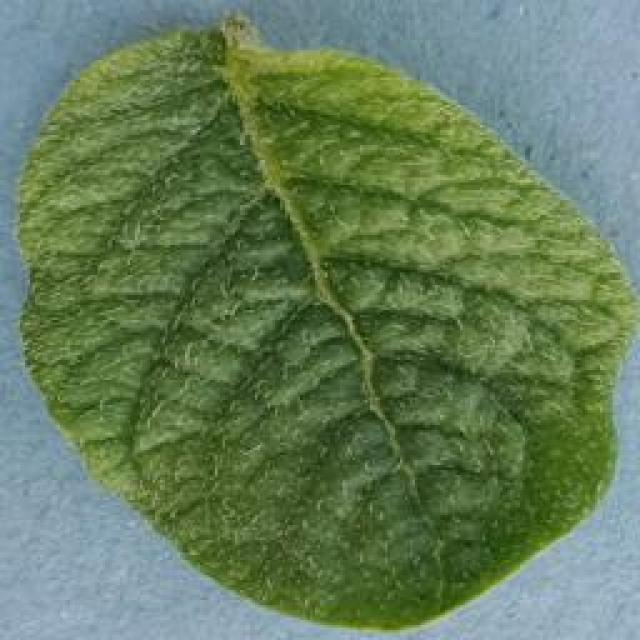Potato_Healthy: (2, 10, 632, 640)
